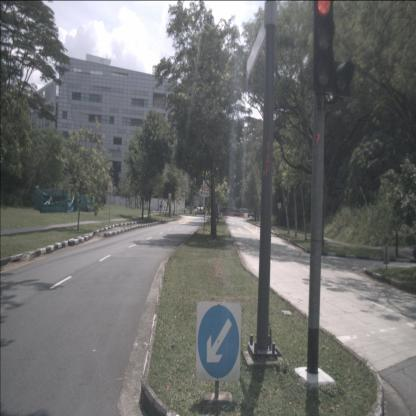barrier: (244, 213, 248, 219), (240, 214, 244, 219), (230, 212, 234, 217)
